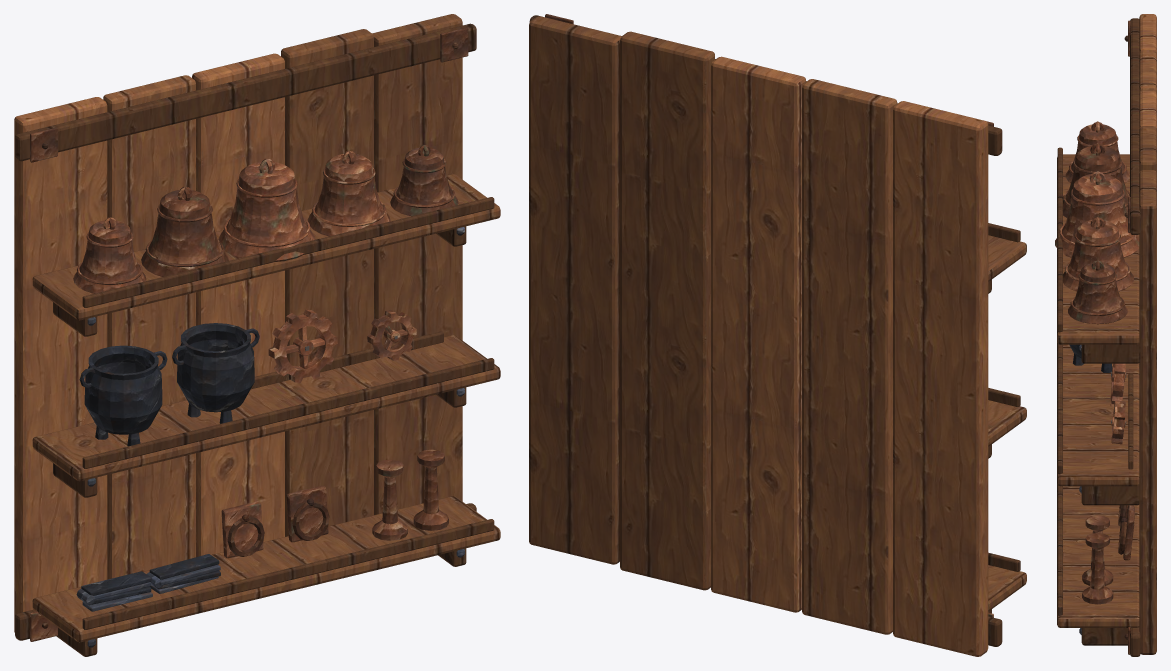
Rendered from cf_casting_shelf.glb.
3 views of the same model, side by side, from view 1: azimuth 30°, elevation 25°; view 2: azimuth 150°, elevation 25°; view 3: azimuth 270°, elevation 25° (orthographic). The views are drawn at different scales.
Parts seen in each view (by area): view 1: model; view 2: model; view 3: model.
Boxes of the visible parts, box(x1,y1,x2,y2) form: model: box(14, 14, 500, 656); model: box(529, 14, 1026, 656); model: box(1055, 14, 1156, 656).
Bounding box in the file's own units: 1.34 × 1.46 × 0.2927.
11 materials, 10 textured.
